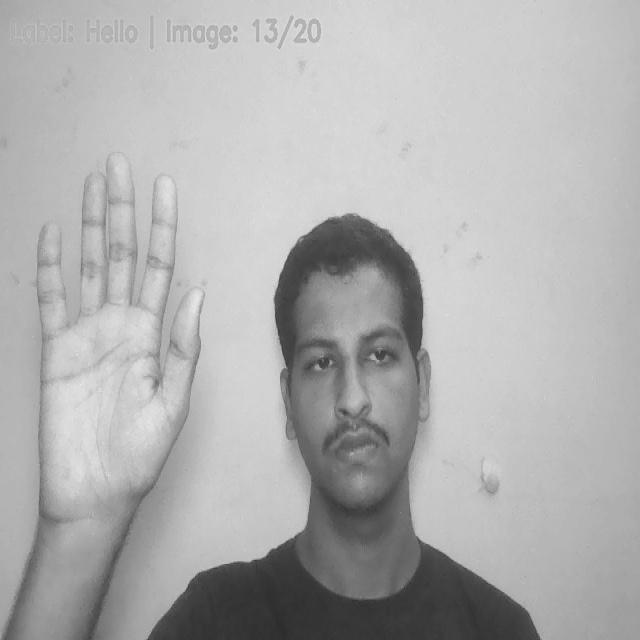Hello: (29, 148, 207, 504)
